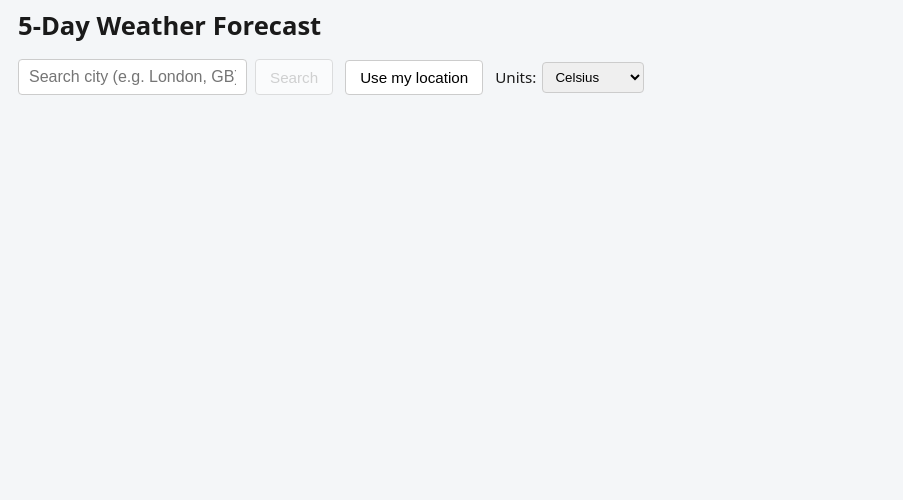
Test: App › loads a forecast using the user's coordinates
Click the button "Use my location".
click(414, 77)  # box top-left (345, 60), bottom-right (483, 95)
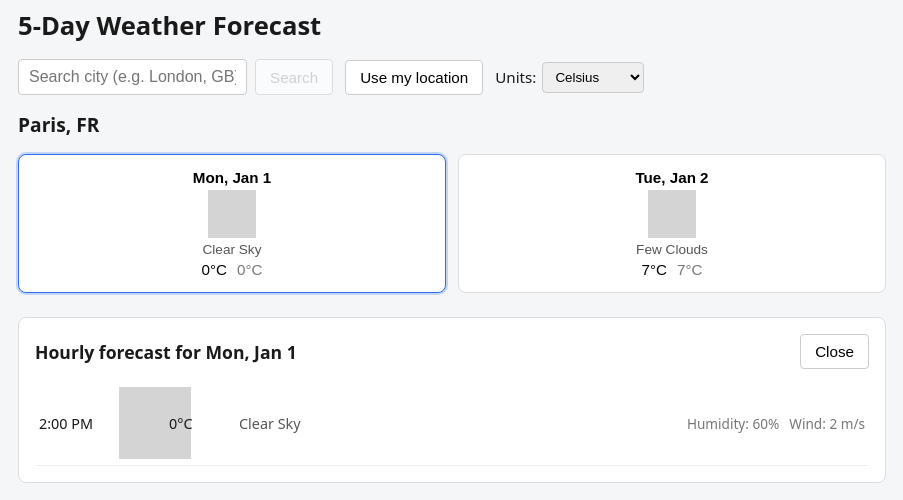
Now the heading "Paris, FR" is shown, box top-left (18, 111), bottom-right (99, 138)
